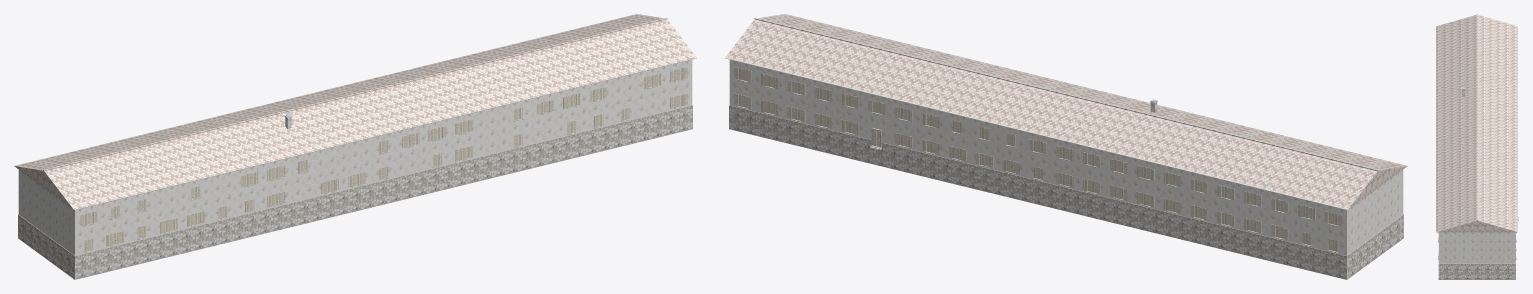
The picture shows the model from 3 angles, left to right: view 1: azimuth 30°, elevation 25°; view 2: azimuth 150°, elevation 25°; view 3: azimuth 270°, elevation 25°; orthographic projection. The views are drawn at different scales.
Visible parts, largest first — view 1: b1082825669; view 2: b1082825669; view 3: b1082825669.
Part boxes in pixels (x1,y1,x2,y2): b1082825669: [14, 14, 696, 279]; b1082825669: [725, 14, 1407, 279]; b1082825669: [1436, 14, 1518, 279].
Size of the model in its own units: 76.22 by 11.06 by 12.82.
Materials: 18 (18 with a texture image).
